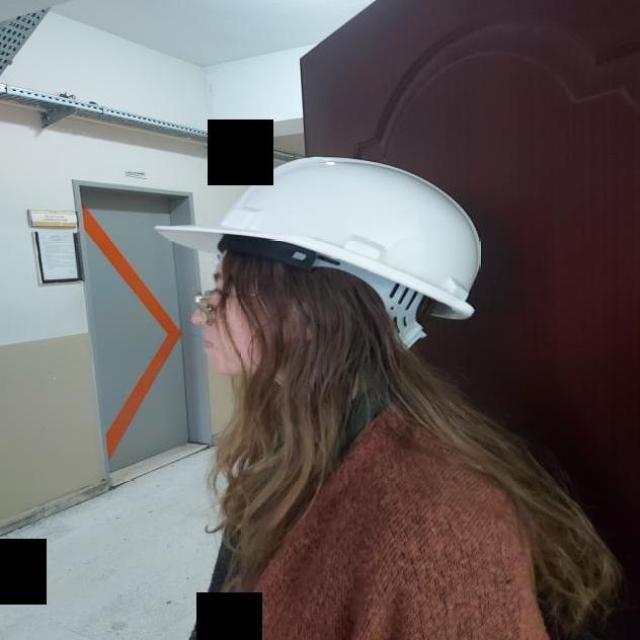white helmet: (161, 148, 489, 309)
